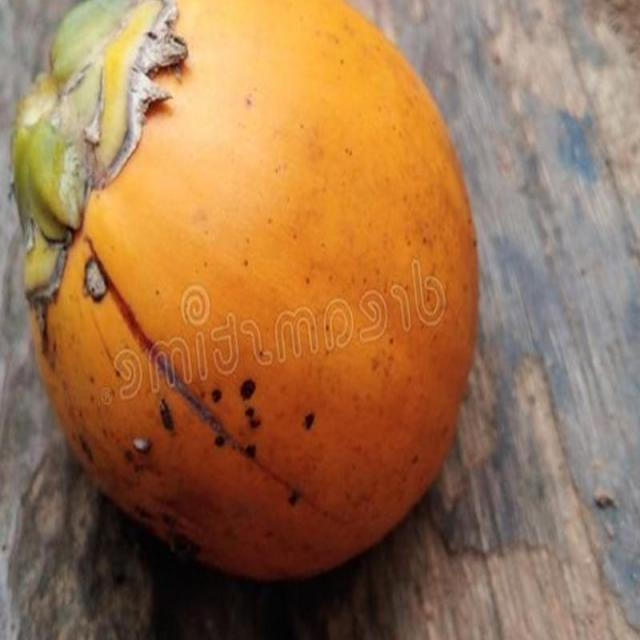good: (8, 0, 481, 590)
